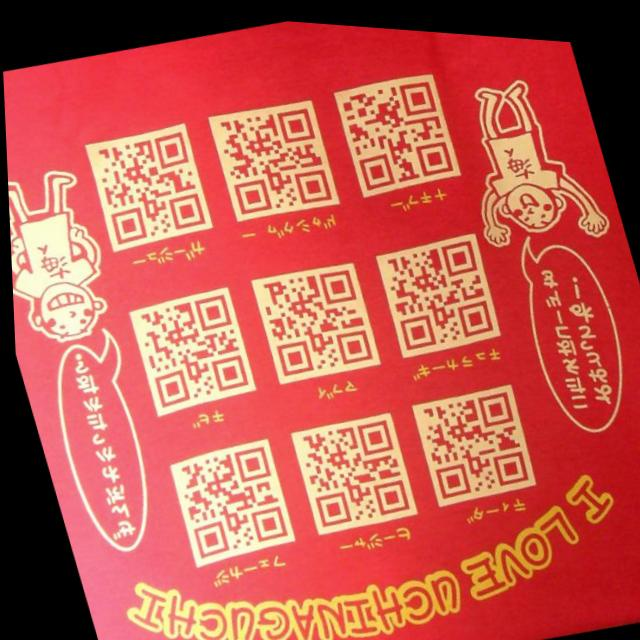qrcode: (168, 436, 288, 561), (89, 123, 208, 248), (376, 227, 494, 349), (131, 287, 248, 410), (213, 97, 332, 217), (411, 378, 529, 498), (339, 68, 455, 190), (254, 258, 371, 377), (292, 409, 408, 527)
